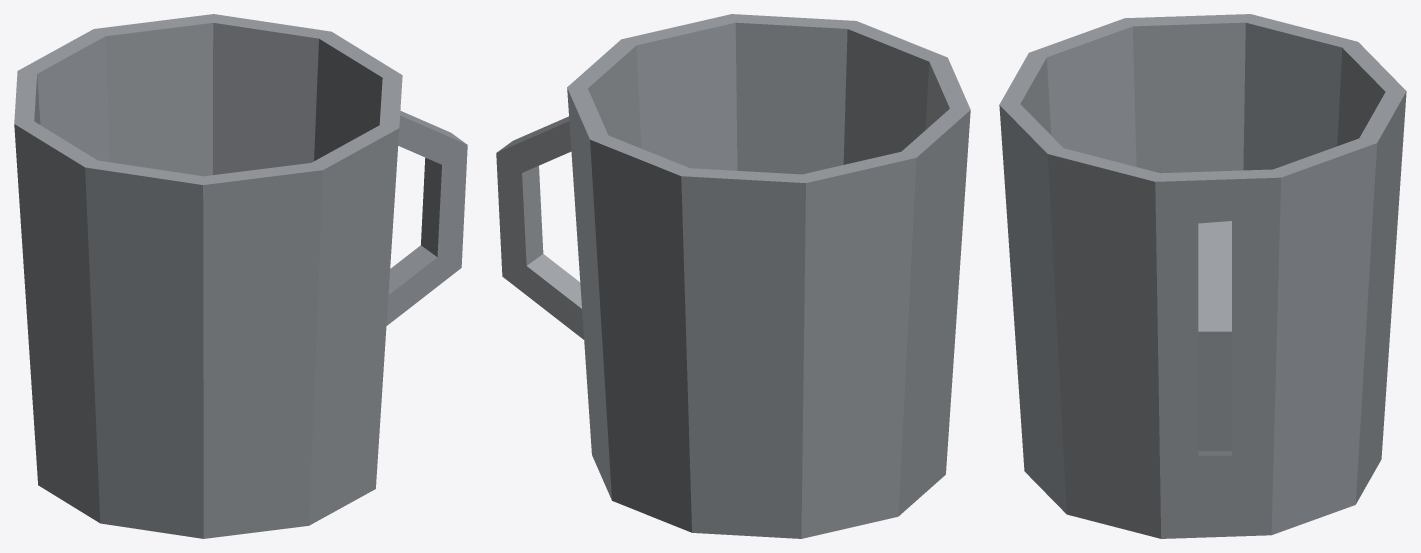
The model's file is Cup_1.fbx.
3 views of the same model, side by side, from view 1: azimuth 30°, elevation 25°; view 2: azimuth 150°, elevation 25°; view 3: azimuth 270°, elevation 25° (orthographic).
Visible parts, largest first — view 1: polySurface1539; view 2: polySurface1539; view 3: polySurface1539.
Part boxes in pixels (left/top/right/bottom): polySurface1539: left=14, top=14, right=467, bottom=538; polySurface1539: left=496, top=14, right=970, bottom=538; polySurface1539: left=999, top=14, right=1406, bottom=538.
Size of the model in its own units: 0.2438 by 0.1985 by 0.1994.
1 material, 1 textured.
